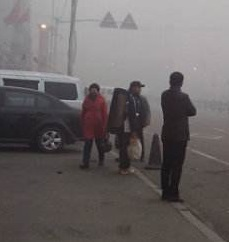person: (160, 70, 198, 203), (107, 78, 150, 175), (78, 82, 110, 170)
